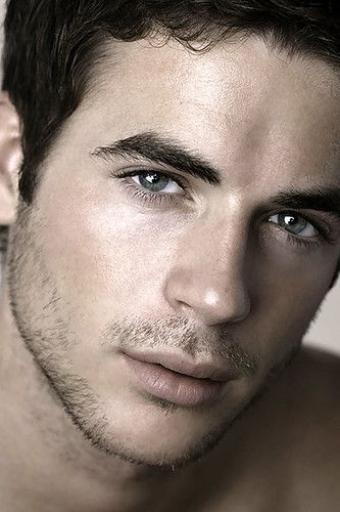left_eye: (260, 205, 334, 243)
left_lip_corner: (217, 372, 241, 390)
right_eye: (115, 166, 195, 207)
right_lip_corner: (109, 341, 138, 370)
